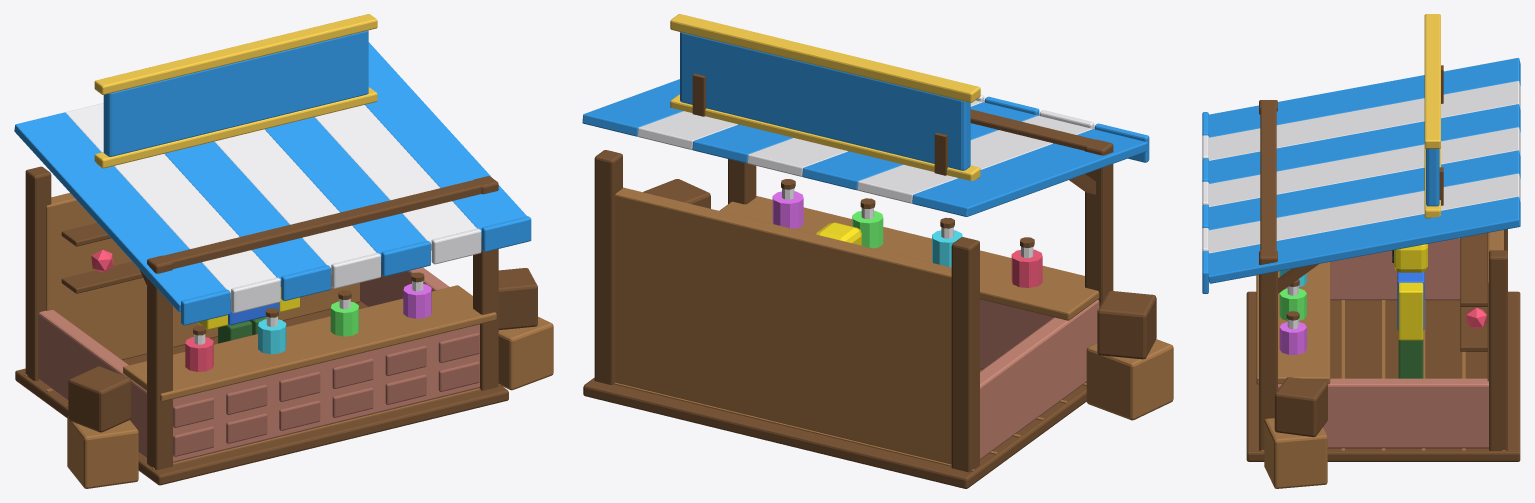
File: puesto_tienda.glb
3 renders of one model, left to right at view 1: azimuth 30°, elevation 25°; view 2: azimuth 150°, elevation 25°; view 3: azimuth 270°, elevation 25°, orthographic. The views are drawn at different scales.
Parts seen in each view (by area): view 1: Puesto, Cartel, Vendedor; view 2: Puesto, Cartel, Vendedor; view 3: Puesto, Vendedor, Cartel.
Part boxes in pixels (bbox=[...]): Puesto: bbox=[14, 14, 553, 488]; Cartel: bbox=[103, 30, 368, 156]; Vendedor: bbox=[197, 287, 299, 343]; Puesto: bbox=[582, 14, 1173, 488]; Cartel: bbox=[680, 32, 970, 170]; Vendedor: bbox=[816, 222, 861, 245]; Puesto: bbox=[1202, 14, 1520, 488]; Vendedor: bbox=[1392, 244, 1427, 378]; Cartel: bbox=[1426, 149, 1439, 206].
Bounding box in the file's own units: 9.36 × 6.14 × 5.81.
Materials: 1 (1 with a texture image).
